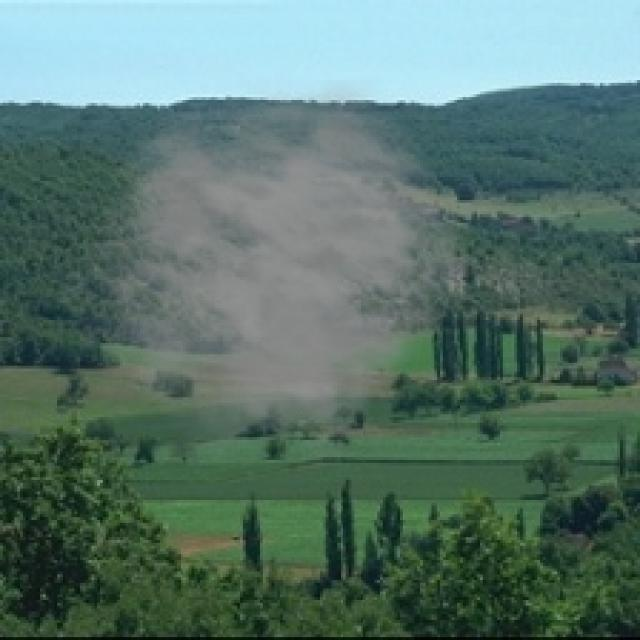Smoke: (54, 80, 472, 466)
